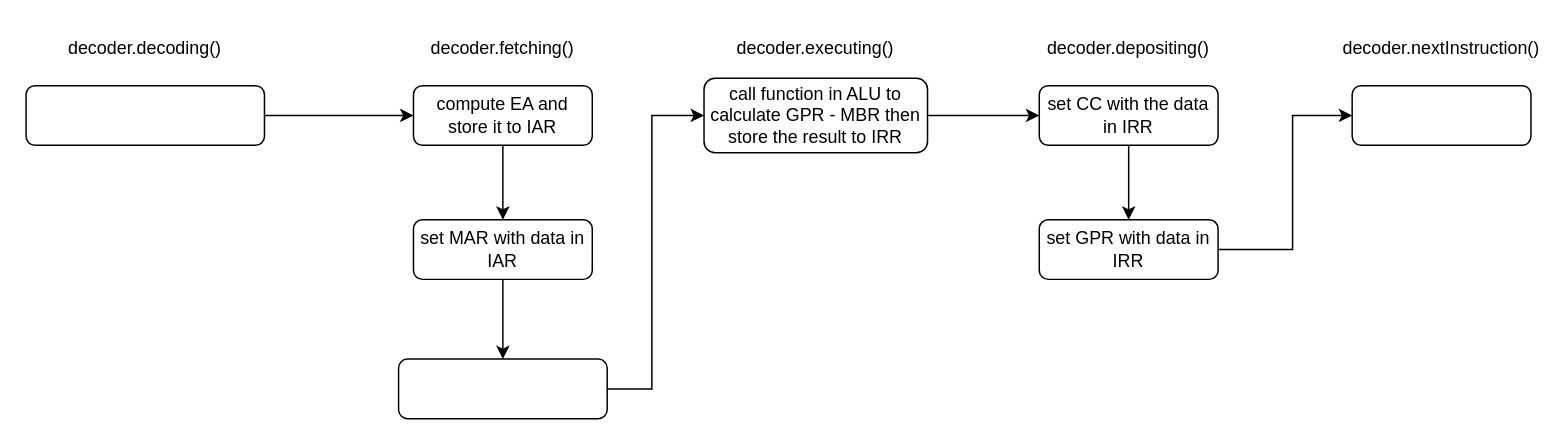
Image size: 1566x444. Some labels were removed from this diagram. The centre of each missing label's shape, as x and y in pixels:
"decode the instruction and opcode = 5" goes at [144,114].
"set MBR with data in MEM using MAR" goes at [502,388].
"set pc = pc + 1" goes at [1441,114].
